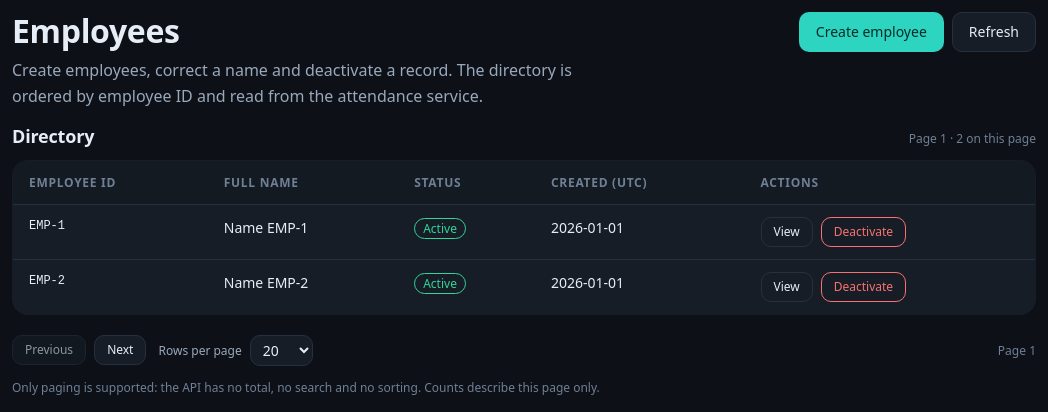
employee directory › handles a full final page followed by an empty page
Expected: the text "EMP-1" is shown, [29,219,65,233]
Click the button "Next" at (120,350), box [94,336,146,366]
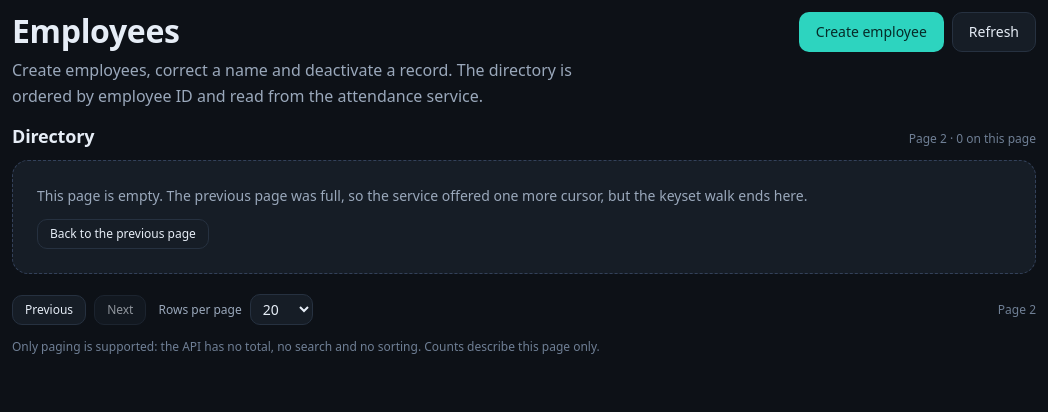
Now the table is gone
Now the text "The previous page was full" is shown, box [37,186,808,205]
Click the button "Back to the previous page" at (123,234), box [37,219,209,249]
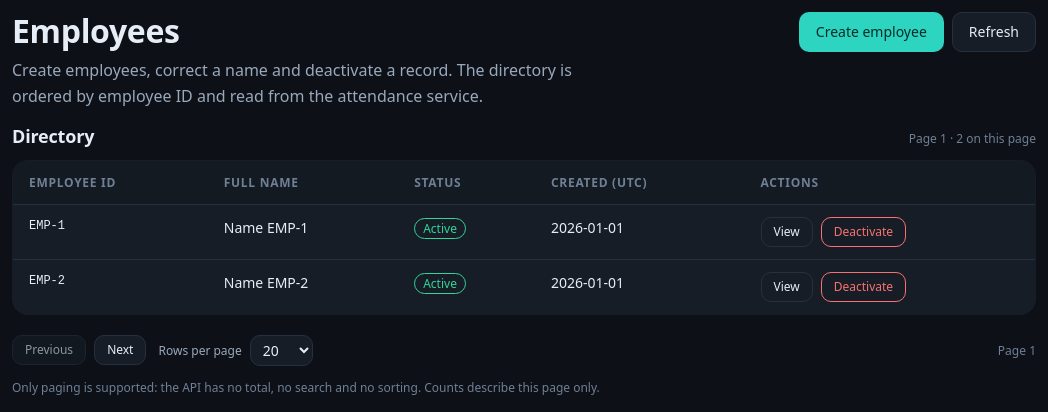
Now the text "EMP-1" is shown, box [29,219,65,233]
